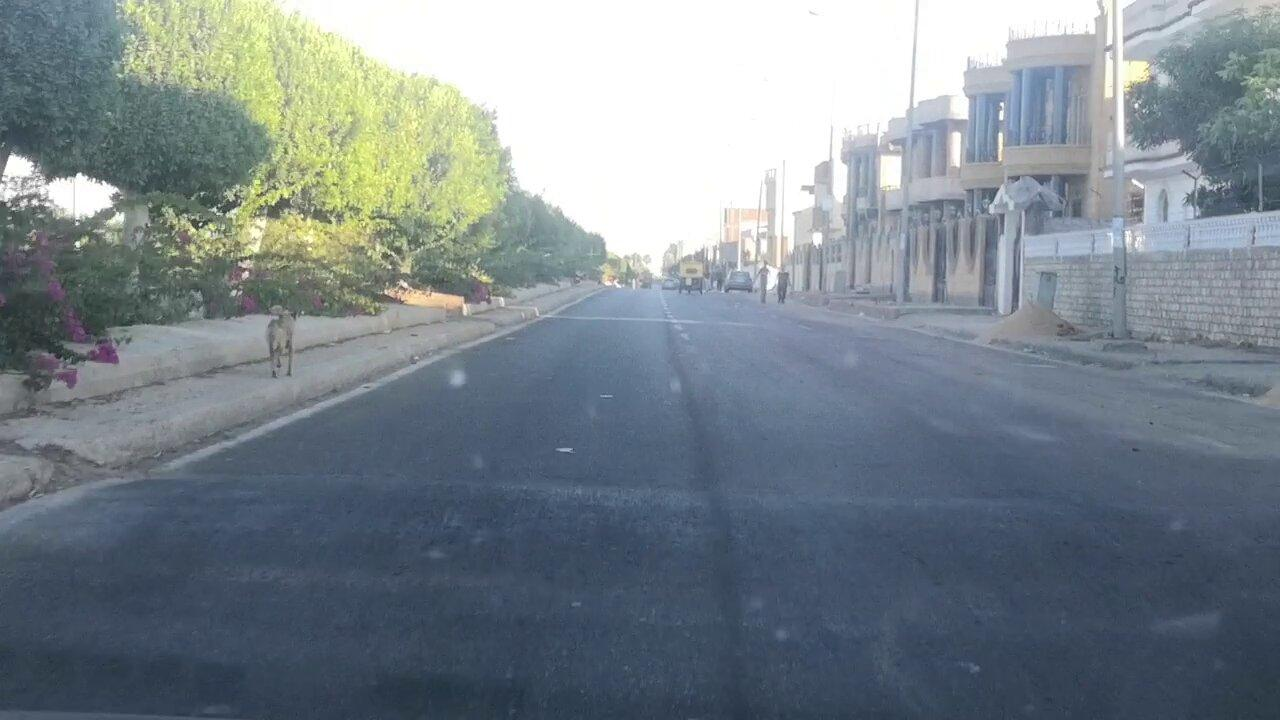Bump: (85, 477, 1280, 628)
